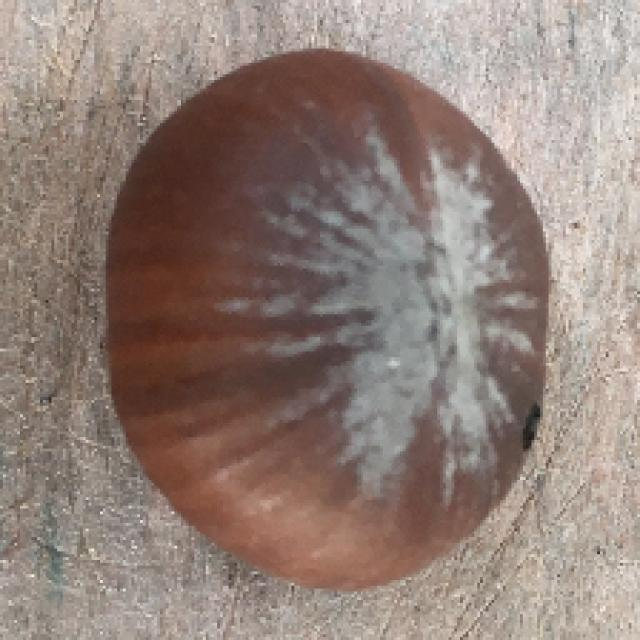damagedHazelnut: (98, 42, 563, 594)
